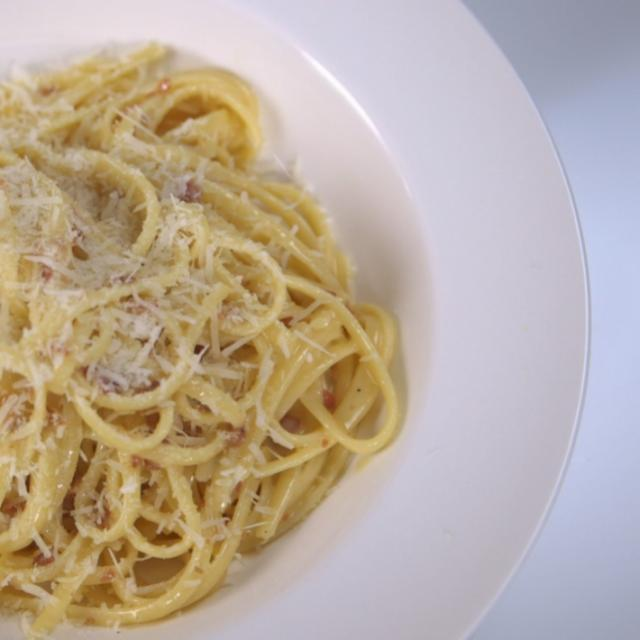Pasta with carbonara sauce: (5, 27, 446, 605)
